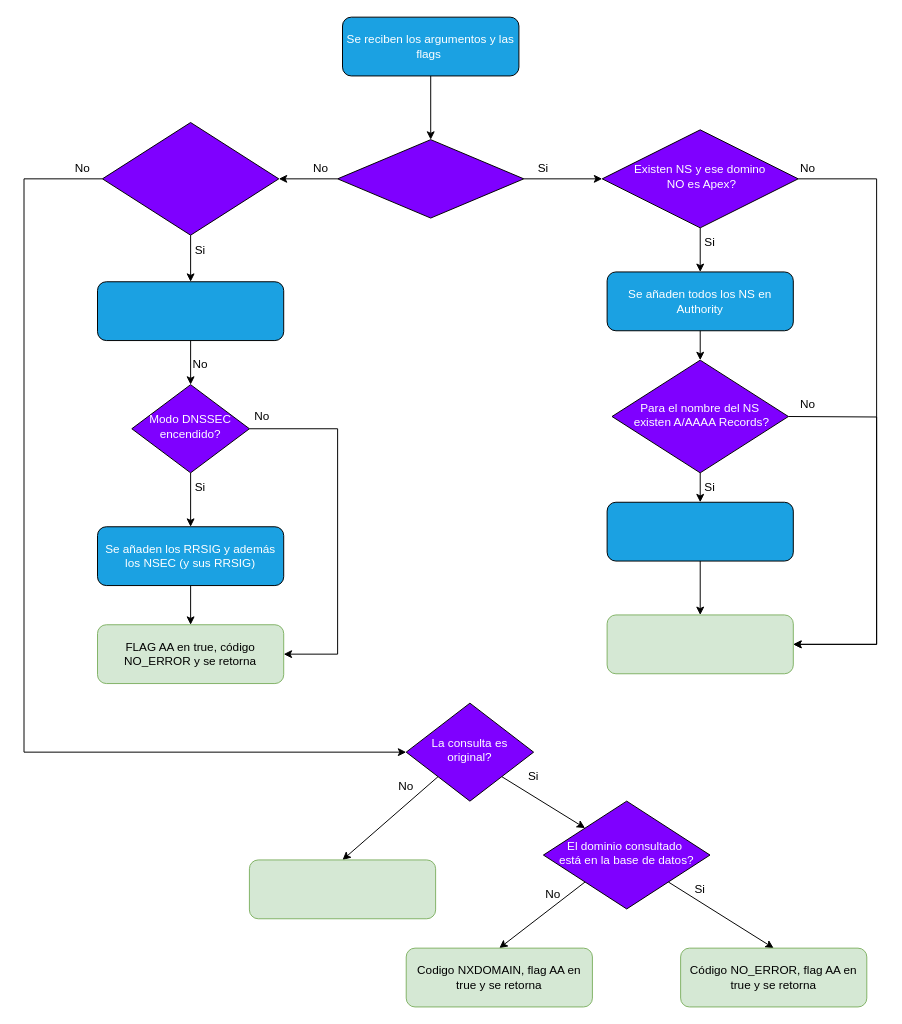
Some shapes in this 902 by 1024 pixel diagram are drawn without their labels. The shapes that lost their labels are listed below. From the top down, each one's centre as x and y in pixels, then its label:
At [190,178]: "Existe un Wildcard para ese dominio y tipo?".
At [430,178]: "Existen datos para el dominio consultado?".
At [190,311]: "Se añaden los registros en Answer".
At [699,531]: "Se añaden los Glue Records en Additional".
At [699,644]: "FLAG AA en false, código NO_ERROR y se retorna".
At [342,889]: "Codigo NO_ERROR y retorna".
